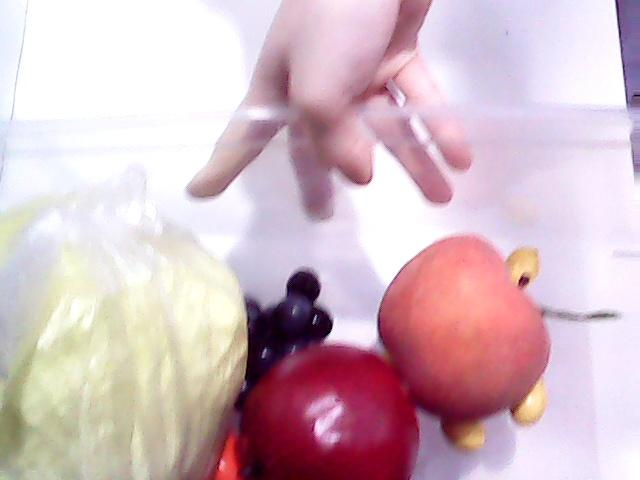apple: (236, 346, 419, 480)
carrot: (211, 428, 249, 480)
grape: (252, 262, 340, 346)
napa cabbage: (1, 188, 251, 480)
peach: (373, 232, 547, 417)
